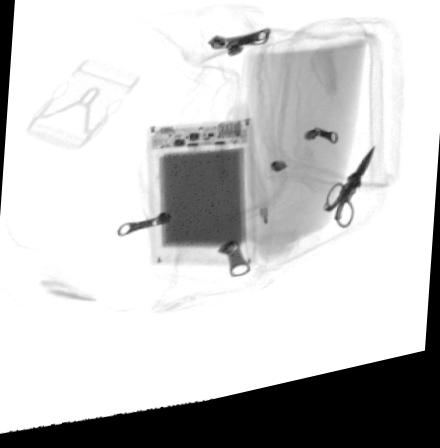Powerbank: (145, 127, 255, 273)
Scissors: (322, 160, 379, 244)
